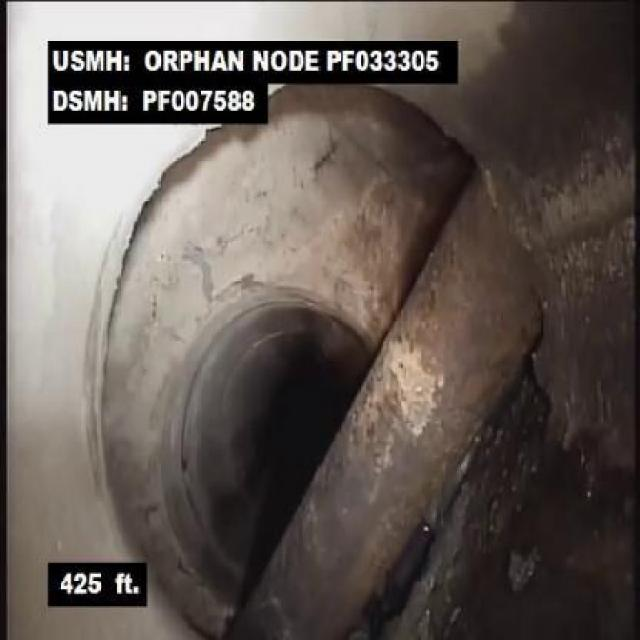Utility intrusion: (232, 137, 557, 638)
